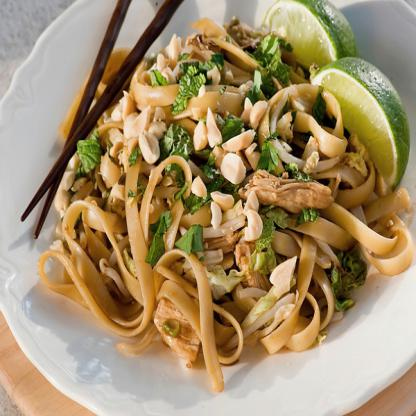Pad Thai: (47, 24, 400, 382)
